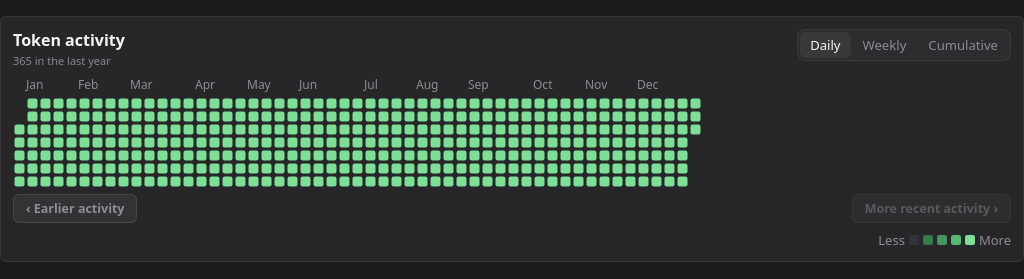
Scenario: TokenActivityGrid › scrolling › opens on the newest weeks and pages back to earlier activity
Check: the button "More recent activity ›" is disabled, box x1=852 y1=194 x2=1011 y2=223
Click the button "‹ Earlier activity".
click(75, 209)  # box x1=13 y1=194 x2=138 y2=223
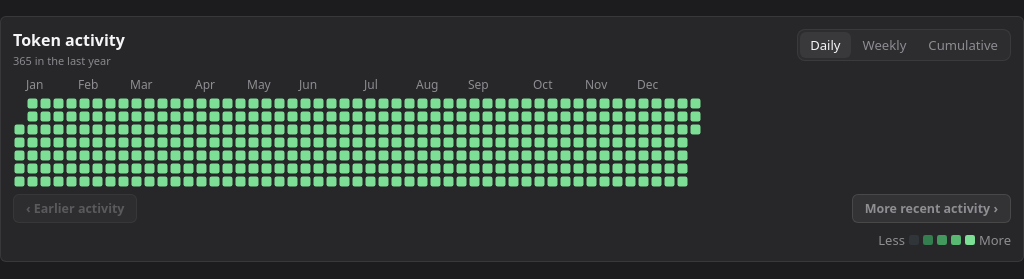
Check: the button "‹ Earlier activity" is disabled, box x1=13 y1=194 x2=138 y2=223
Check: the button "More recent activity ›" is enabled
Click the button "More recent activity ›".
click(931, 209)  # box x1=852 y1=194 x2=1011 y2=223
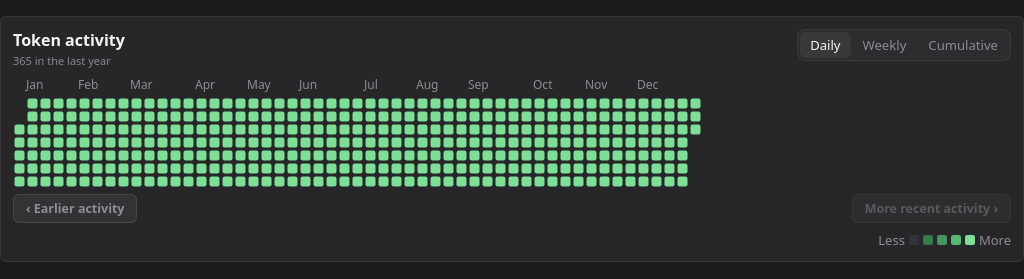
Check: the button "‹ Earlier activity" is enabled, box x1=13 y1=194 x2=138 y2=223
